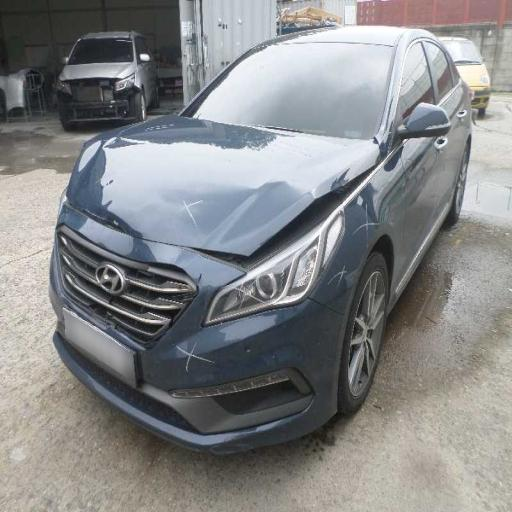broken: (154, 332, 344, 475)
dent: (78, 120, 316, 278)
